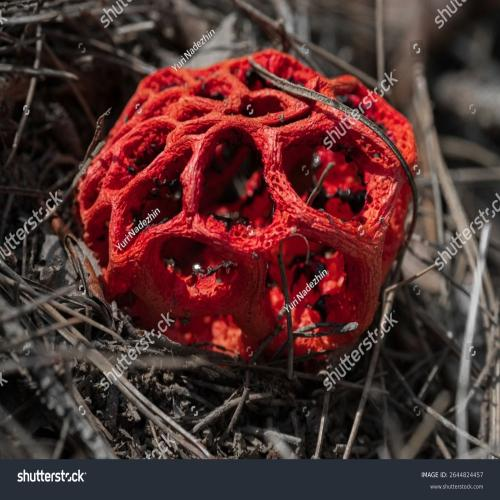Red Cage Fungus: (39, 3, 448, 401)
